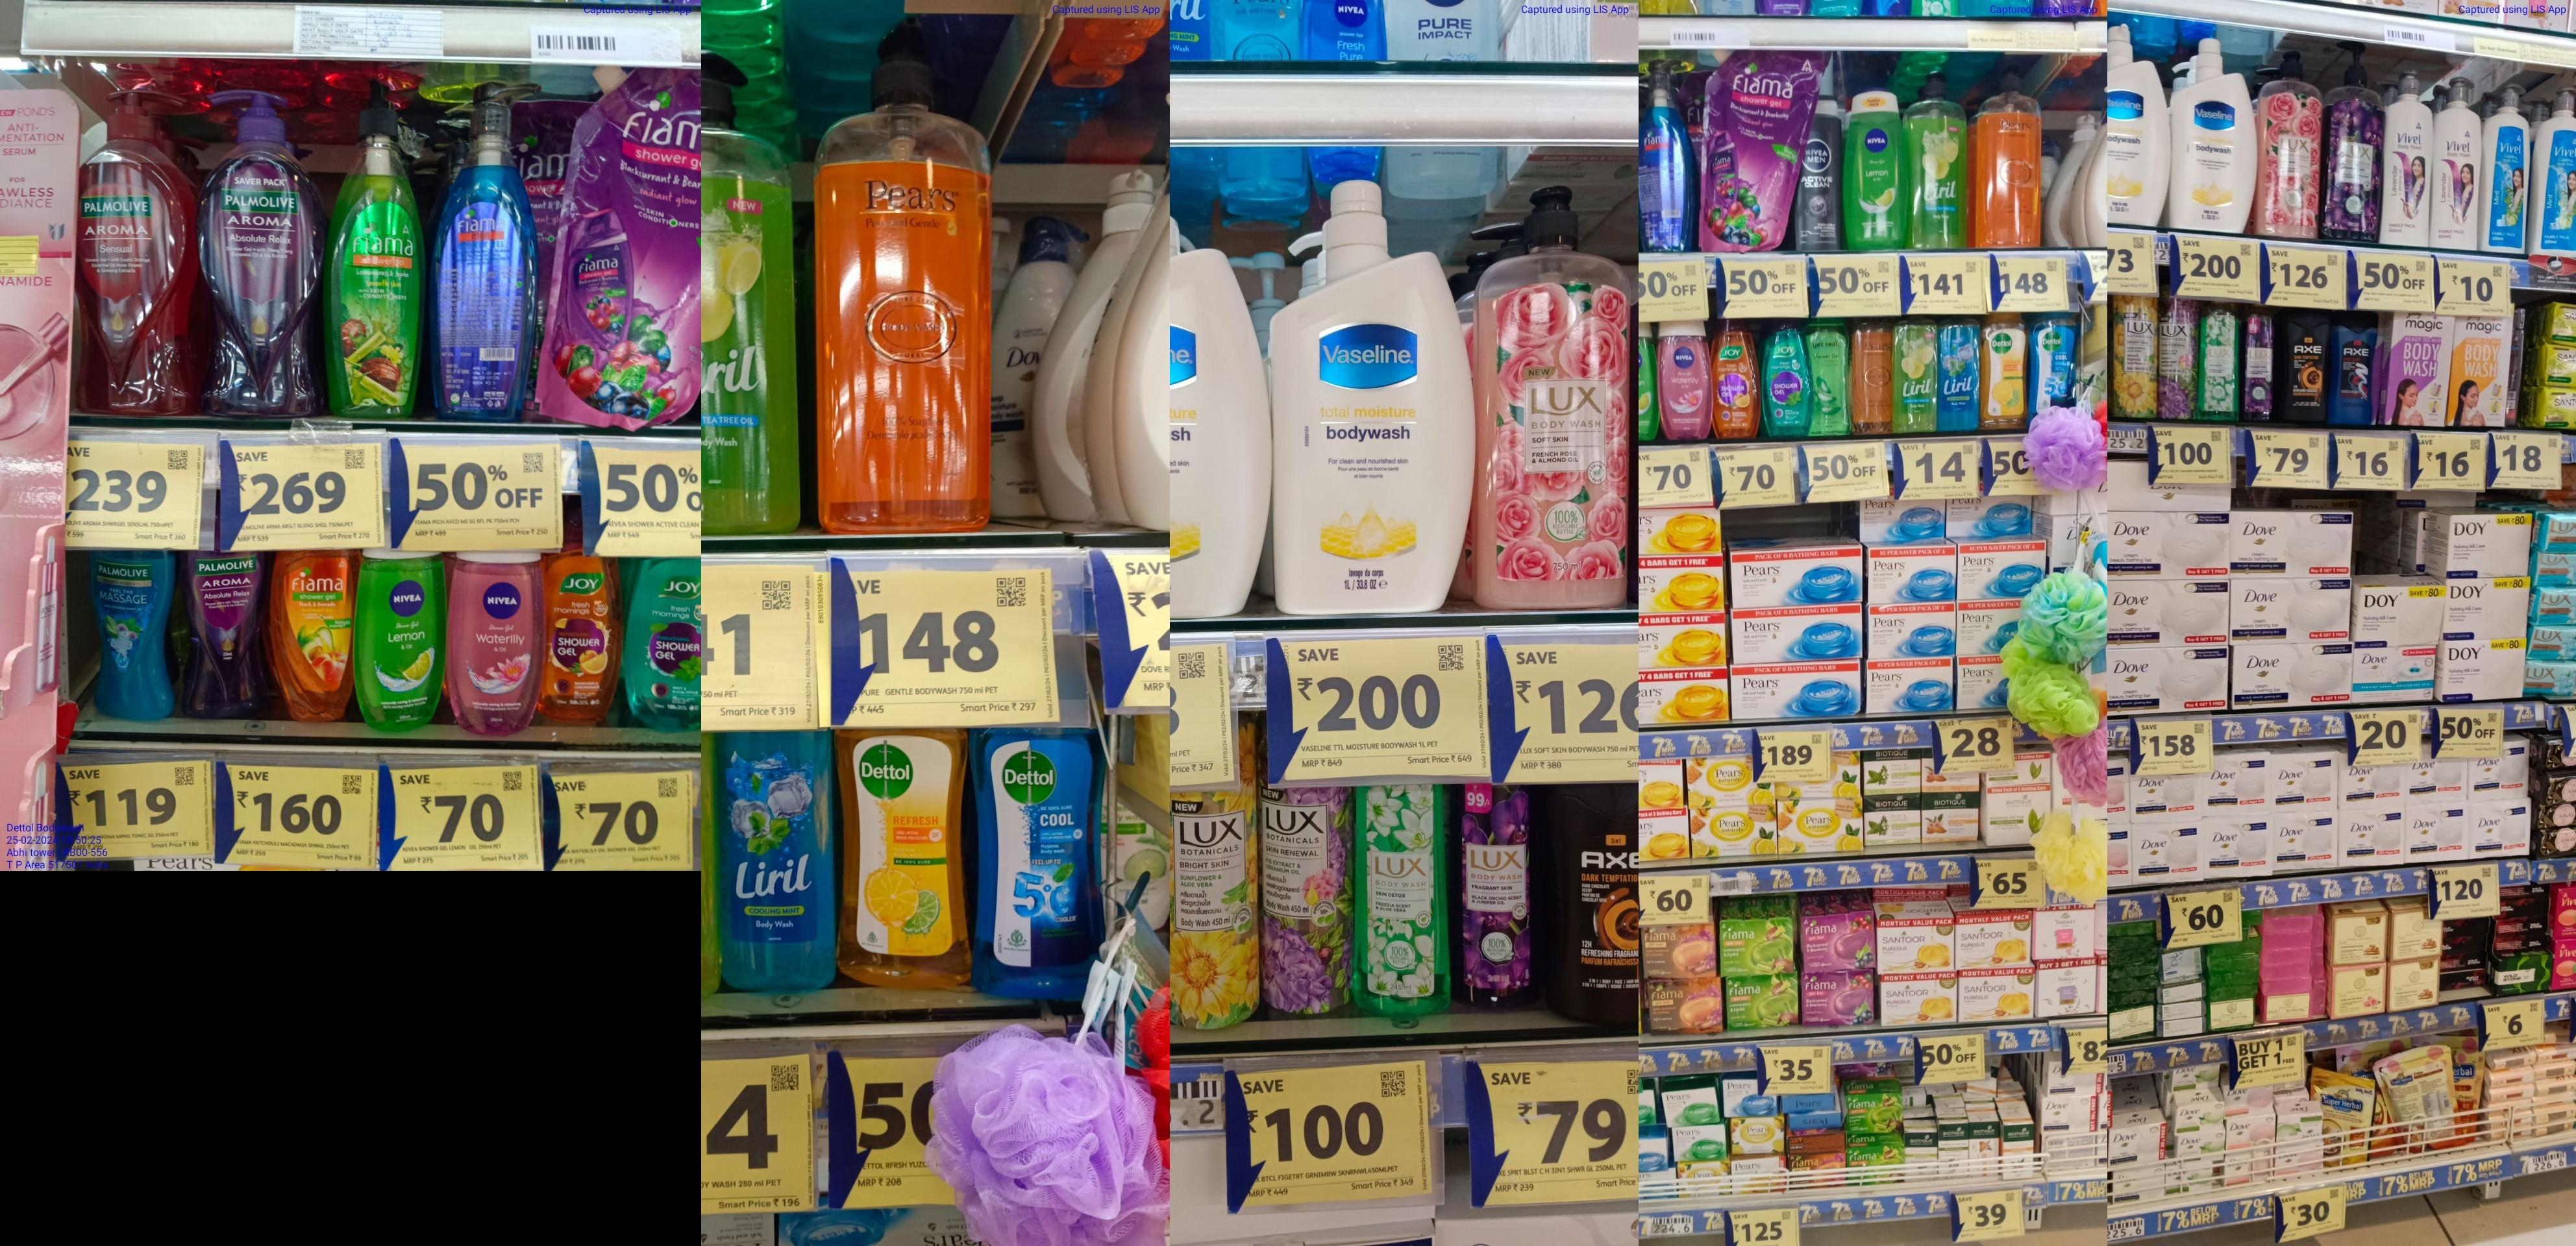Dettol_Bodywash_Cool: (987, 729, 1109, 1001)
Dettol_Bodywash_Refresh: (841, 729, 974, 993)
Fiama_Shower_Gel_Peach_and_Avocado_250ML: (273, 550, 353, 719)
Joy_Shower_Gel_Mandarin_and_Lemongrass_250ML: (544, 550, 619, 726)
Joy_Shower_Gel_Mint_and_Eucalyptus_250ML: (629, 560, 706, 732)
Liril_Cooling_Mint_Body_Wash_250ML: (721, 732, 833, 992)
Lux_Black_Orchid_Scent_and_Juniper_Oil_Body_Wash_245ML: (2247, 305, 2275, 420)
Lux_Body_Wash_Skin_Detox_Freesia_Scent_and_Alove_Vera_245ML: (2198, 302, 2244, 422)
Nivea_Shower_Gel_Lemon_and_Oil_250ML: (360, 552, 440, 731)
Nivea_Shower_Gel_Waterlily_and_Oil_250ML: (450, 548, 539, 732)
Palmolive_Aroma_Moments_Feel_The_Massage_Shower_Gel_250ML: (89, 552, 171, 722)
Palmolive_Aroma_Relax_250ML: (189, 555, 266, 716)
